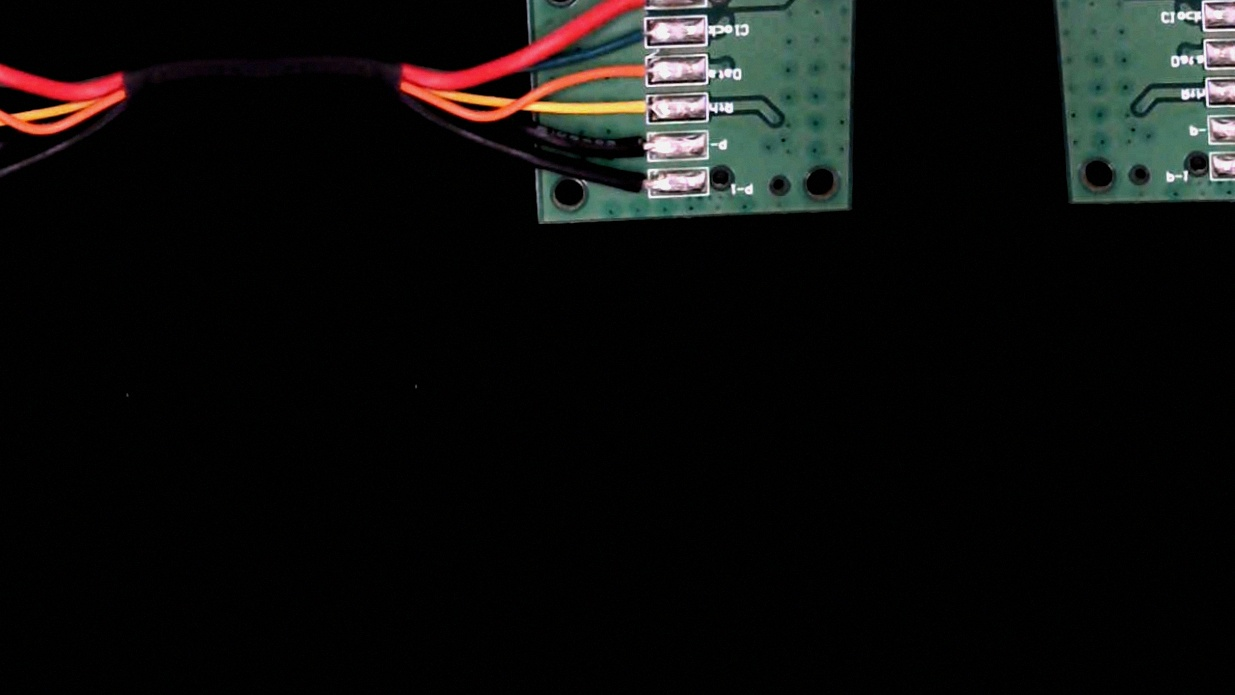Black: (597, 130, 668, 165)
Black1: (602, 168, 667, 202)
Green: (602, 17, 670, 51)
Orange: (596, 54, 667, 87)
Red: (596, 0, 665, 12)
Yellow: (594, 93, 666, 128)
